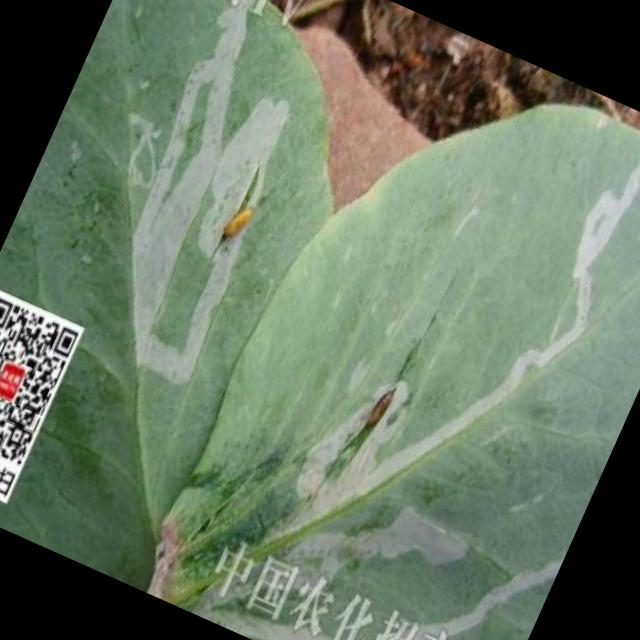whorl-maggot: (206, 183, 267, 264), (360, 372, 410, 438)
